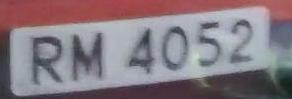0: (157, 21, 195, 75)
2: (226, 14, 261, 69)
4: (122, 22, 162, 81)
5: (191, 16, 229, 73)
M: (64, 28, 111, 84)
R: (24, 31, 70, 90)
